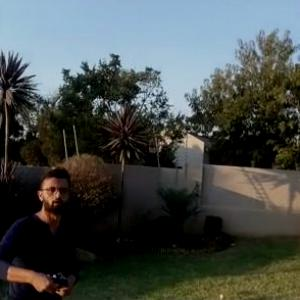follow: (0, 154, 84, 299)
